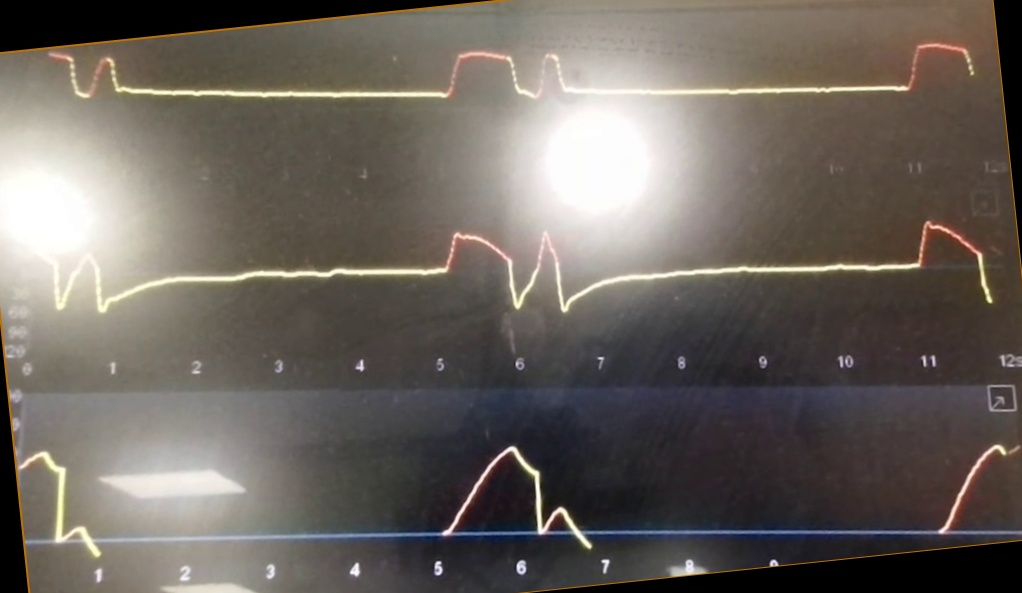Double_Triggering Flow: (32, 191, 999, 335)
Double_Triggering Volume: (21, 411, 1019, 556)
